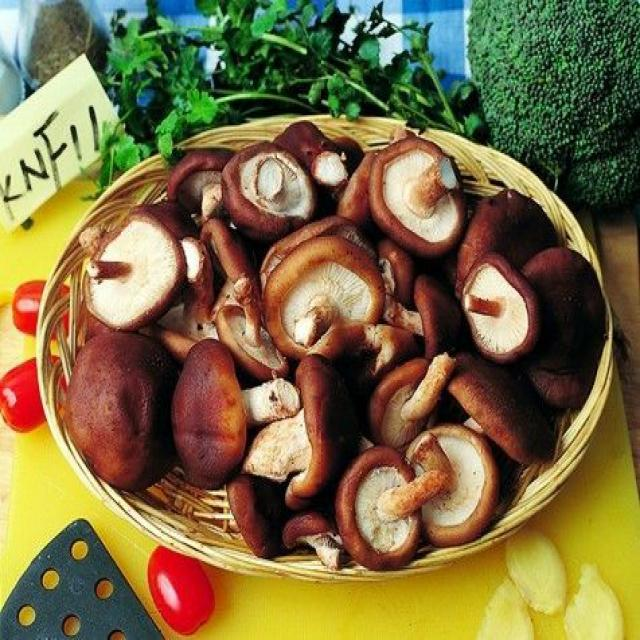Lentinus edodes: (68, 333, 172, 491), (76, 206, 183, 329), (336, 447, 442, 569), (268, 240, 381, 353), (401, 425, 502, 549), (173, 338, 246, 479), (366, 139, 459, 249), (375, 357, 456, 448), (227, 139, 310, 226), (462, 258, 529, 357), (216, 295, 287, 381)
